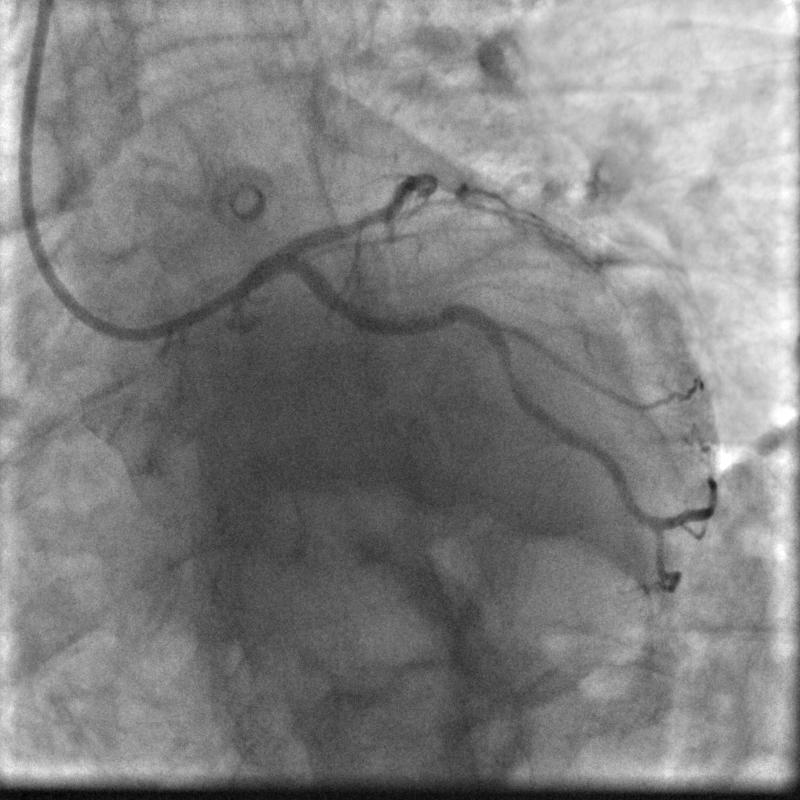Stenosis: (500, 357, 518, 383)
